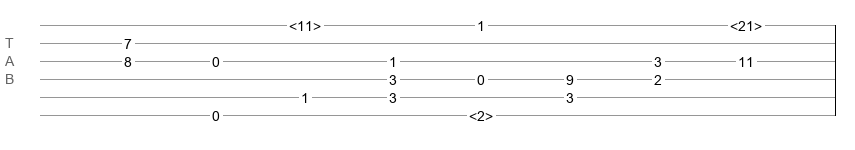0: (212, 54, 220, 64), (212, 108, 220, 118), (477, 72, 485, 82)
1: (301, 90, 309, 100), (389, 54, 397, 64), (477, 18, 485, 28)
11: (738, 54, 754, 64)
2: (654, 72, 662, 82)
3: (389, 72, 397, 82), (389, 90, 397, 100), (566, 90, 574, 100), (654, 54, 662, 64)
7: (124, 36, 132, 46)
8: (124, 54, 132, 64)
9: (566, 72, 574, 82)
harmonic: (289, 18, 321, 28), (730, 18, 762, 28), (469, 108, 493, 118)
